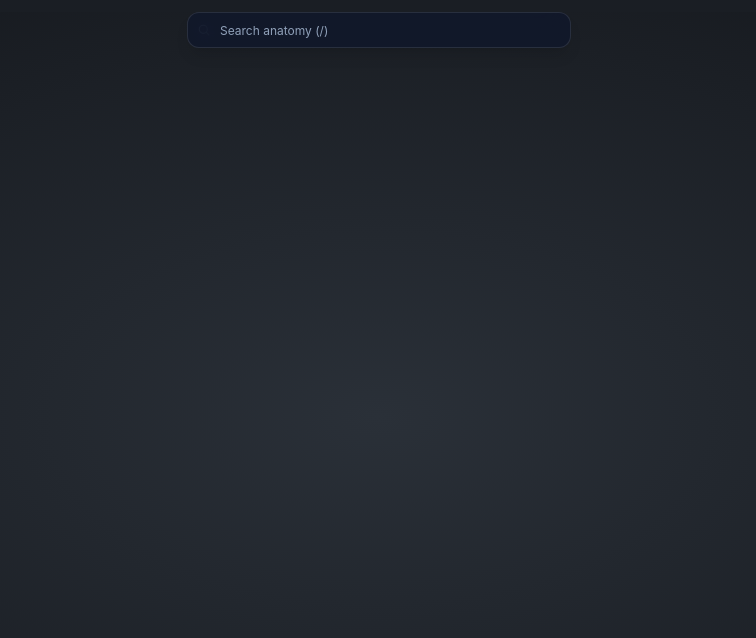
SearchBox › shows an alert when revealAndFocus rejects
Type "bic" into the dropdown named "Search structures" at [379, 30], box [187, 12, 571, 48]
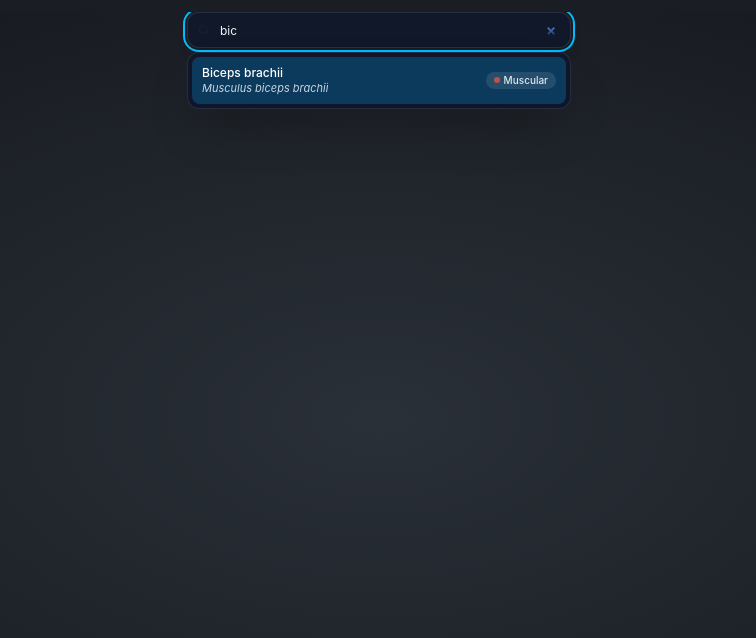
Click the option "Biceps brachii Musculus biceps brachii Muscular" at [242, 72], box [192, 57, 566, 104]
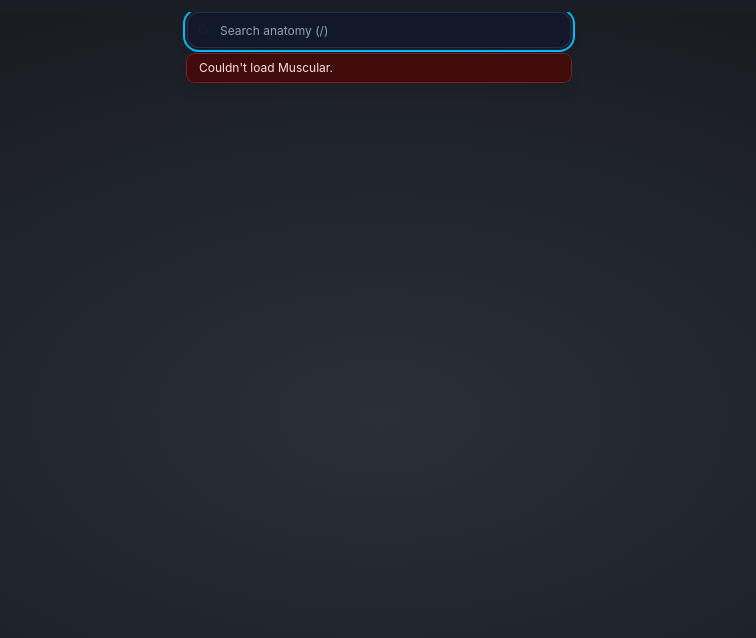
Now the message reads "Couldn't load Muscular.", box [199, 60, 333, 75]
